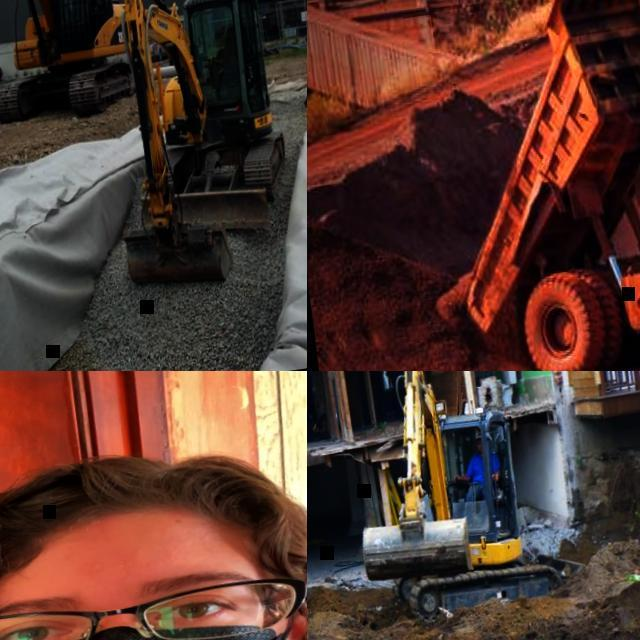machinery: (407, 0, 640, 371), (338, 371, 596, 631), (85, 0, 307, 296), (0, 0, 148, 153)
no_helmet: (0, 426, 307, 605), (474, 430, 486, 441)
no_mask: (480, 448, 484, 456)
no_vest: (472, 452, 499, 484)
person: (0, 400, 307, 640), (448, 429, 508, 524), (210, 26, 243, 81), (384, 371, 408, 405)
